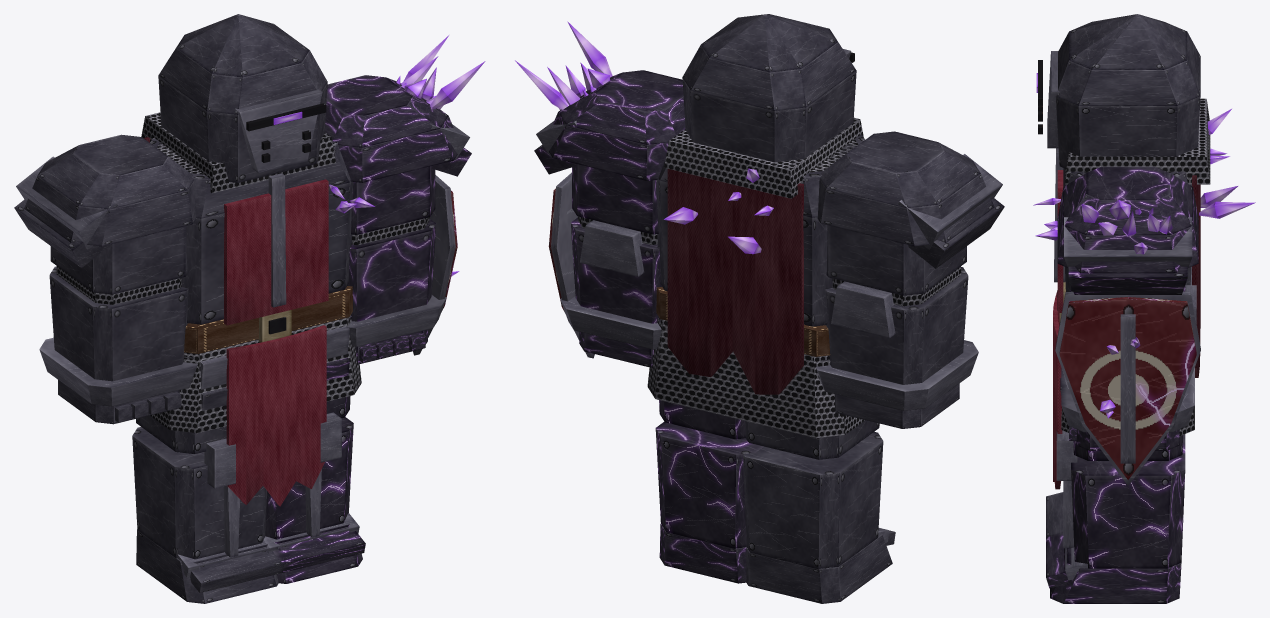
File: KnightMid.fbx
3 views of the same model, side by side, from view 1: azimuth 30°, elevation 25°; view 2: azimuth 150°, elevation 25°; view 3: azimuth 270°, elevation 25° (orthographic). The views are drawn at different scales.
Parts seen in each view (by area): view 1: Head_Armor, LowerTorso_Armor, RightUpperArm_Armor, UpperTorso_Armor, LeftUpperArm_Armor, RightLowerLeg_Armor, RightLowerArm_Armor, LeftLowerArm_Armor, RightHand_Armor, RightFoot_Armor, LeftLowerLeg_Armor, LeftFoot_Armor (+5 smaller); view 2: UpperTorso_Armor, Head_Armor, RightUpperArm_Armor, LeftUpperArm_Armor, RightLowerLeg_Armor, RightLowerArm_Armor, LowerTorso_Armor, LeftLowerLeg_Armor, LeftLowerArm_Armor, RightHand_Armor, RightFoot_Armor, LeftHand_Armor (+6 smaller); view 3: Head_Armor, LeftLowerArm_Shield, LeftUpperArm_Armor, LeftLowerLeg_Armor, LeftFoot_Armor, UpperTorso_Armor, LeftHand_Armor, UpperTorso_Glow, LowerTorso_Armor, LeftUpperArm_Glow, LeftUpperLeg_Armor, RightFoot_Armor (+1 smaller).
Part boxes in pixels (bbox=[...]): Head_Armor: bbox=[141, 14, 335, 193]; LowerTorso_Armor: bbox=[150, 286, 361, 506]; RightUpperArm_Armor: bbox=[14, 134, 195, 304]; UpperTorso_Armor: bbox=[144, 137, 353, 325]; LeftUpperArm_Armor: bbox=[324, 75, 471, 245]; RightLowerLeg_Armor: bbox=[132, 427, 266, 559]; RightLowerArm_Armor: bbox=[49, 266, 188, 399]; LeftLowerArm_Armor: bbox=[347, 218, 436, 340]; RightHand_Armor: bbox=[39, 337, 197, 424]; RightFoot_Armor: bbox=[136, 529, 284, 603]; LeftLowerLeg_Armor: bbox=[265, 412, 353, 539]; LeftFoot_Armor: bbox=[263, 513, 365, 583]; UpperTorso_Armor: bbox=[656, 134, 864, 394]; Head_Armor: bbox=[664, 14, 863, 198]; RightUpperArm_Armor: bbox=[817, 131, 1004, 306]; LeftUpperArm_Armor: bbox=[534, 70, 685, 244]; RightLowerLeg_Armor: bbox=[743, 431, 883, 569]; RightLowerArm_Armor: bbox=[825, 267, 968, 404]; LowerTorso_Armor: bbox=[647, 287, 864, 438]; LeftLowerLeg_Armor: bbox=[655, 421, 763, 548]; LeftLowerArm_Armor: bbox=[571, 217, 661, 342]; RightHand_Armor: bbox=[815, 340, 978, 428]; RightFoot_Armor: bbox=[746, 528, 895, 603]; LeftHand_Armor: bbox=[560, 296, 661, 367]; Head_Armor: bbox=[1038, 14, 1210, 184]; LeftLowerArm_Shield: bbox=[1055, 291, 1200, 485]; LeftUpperArm_Armor: bbox=[1057, 166, 1198, 294]; LeftLowerLeg_Armor: bbox=[1056, 430, 1185, 568]; LeftFoot_Armor: bbox=[1046, 533, 1181, 603]; UpperTorso_Armor: bbox=[1054, 148, 1200, 377]; LeftHand_Armor: bbox=[1061, 367, 1194, 450]; UpperTorso_Glow: bbox=[1033, 109, 1255, 240]; LowerTorso_Armor: bbox=[1053, 282, 1194, 489]; LeftUpperArm_Glow: bbox=[1081, 200, 1172, 254]; LeftUpperLeg_Armor: bbox=[1060, 378, 1182, 460]; RightFoot_Armor: bbox=[1046, 492, 1063, 537].
Bounding box in the file's own units: 524 × 633 × 234.
2 materials, 2 textured.
